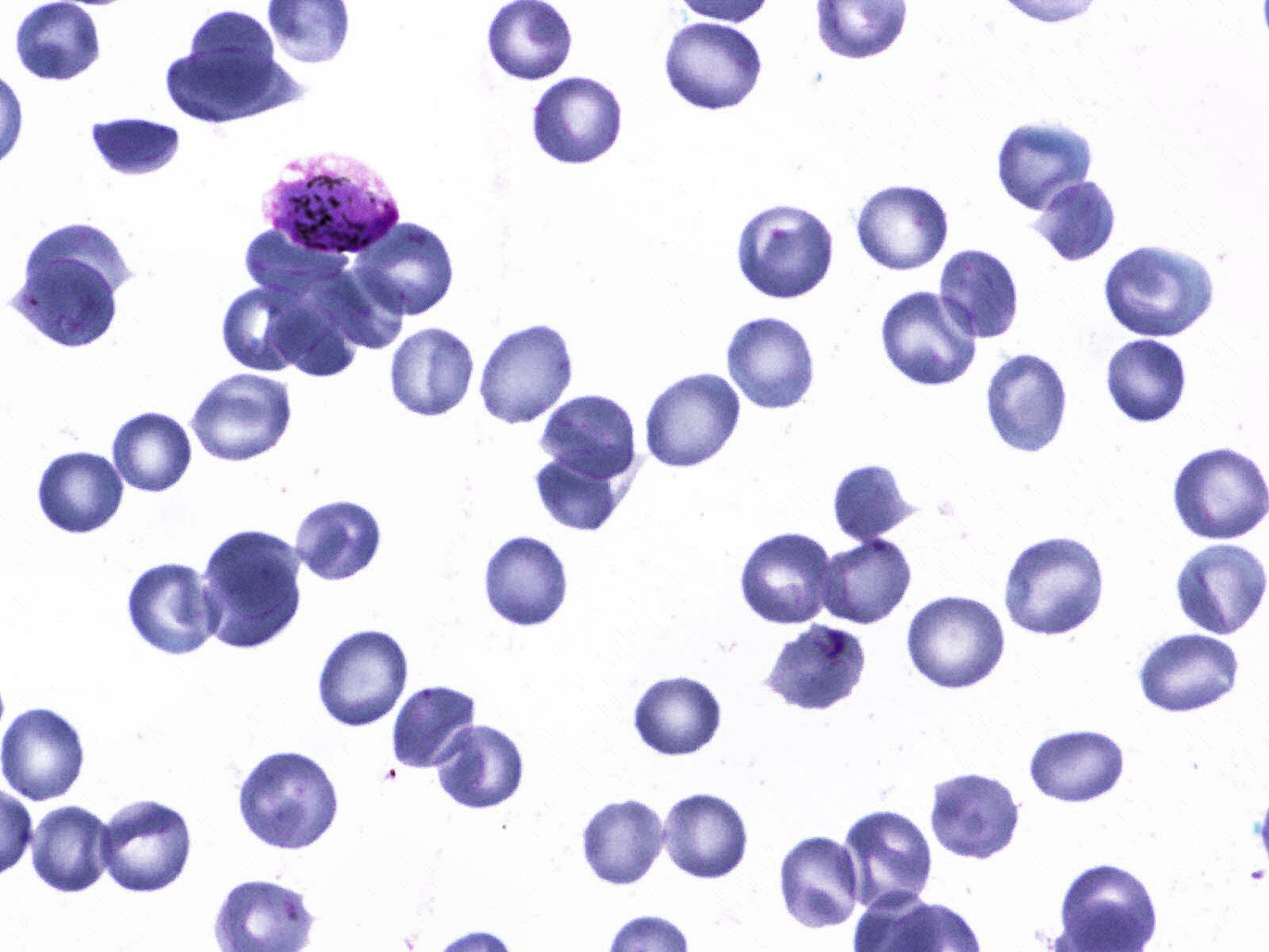Infected: (262, 144, 408, 250), (759, 620, 874, 717)
Uninfected: (999, 539, 1109, 641), (199, 524, 306, 624), (1106, 242, 1216, 336), (240, 754, 343, 854), (877, 291, 981, 390), (3, 259, 120, 347), (133, 551, 227, 659), (662, 19, 764, 118), (820, 526, 916, 631), (723, 313, 822, 414), (734, 198, 835, 296), (997, 113, 1094, 215), (838, 813, 935, 915), (201, 555, 300, 654), (167, 46, 305, 117), (357, 220, 458, 317), (321, 632, 414, 734), (982, 348, 1067, 459), (1173, 440, 1268, 539), (651, 367, 744, 468), (213, 275, 314, 367), (904, 596, 1008, 685), (529, 79, 627, 172), (850, 183, 952, 272), (744, 538, 842, 628), (1175, 546, 1268, 639), (435, 719, 526, 812), (296, 487, 387, 580), (196, 374, 294, 460), (1031, 725, 1133, 807), (25, 218, 132, 296), (106, 801, 200, 889), (940, 247, 1026, 342), (487, 330, 577, 420), (476, 536, 566, 626), (489, 0, 578, 90), (930, 773, 1021, 861), (27, 801, 118, 889), (3, 708, 91, 798), (1060, 869, 1161, 947), (384, 335, 480, 416), (186, 9, 278, 93), (270, 299, 363, 382), (316, 267, 409, 350), (1139, 639, 1239, 716), (106, 409, 196, 493), (245, 230, 365, 293), (830, 466, 924, 546), (1104, 339, 1188, 428), (548, 397, 638, 480), (531, 451, 624, 531), (665, 798, 749, 886), (393, 686, 479, 771), (784, 835, 864, 925), (583, 795, 661, 886), (36, 453, 127, 531), (17, 7, 108, 85), (634, 678, 727, 754), (1037, 178, 1118, 260), (94, 110, 191, 172)
